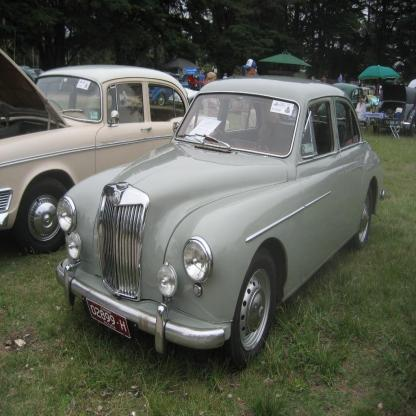Car: (47, 79, 389, 367), (1, 45, 229, 253), (372, 80, 416, 131), (317, 84, 368, 119), (137, 77, 190, 104), (36, 69, 44, 75), (22, 67, 30, 70)
